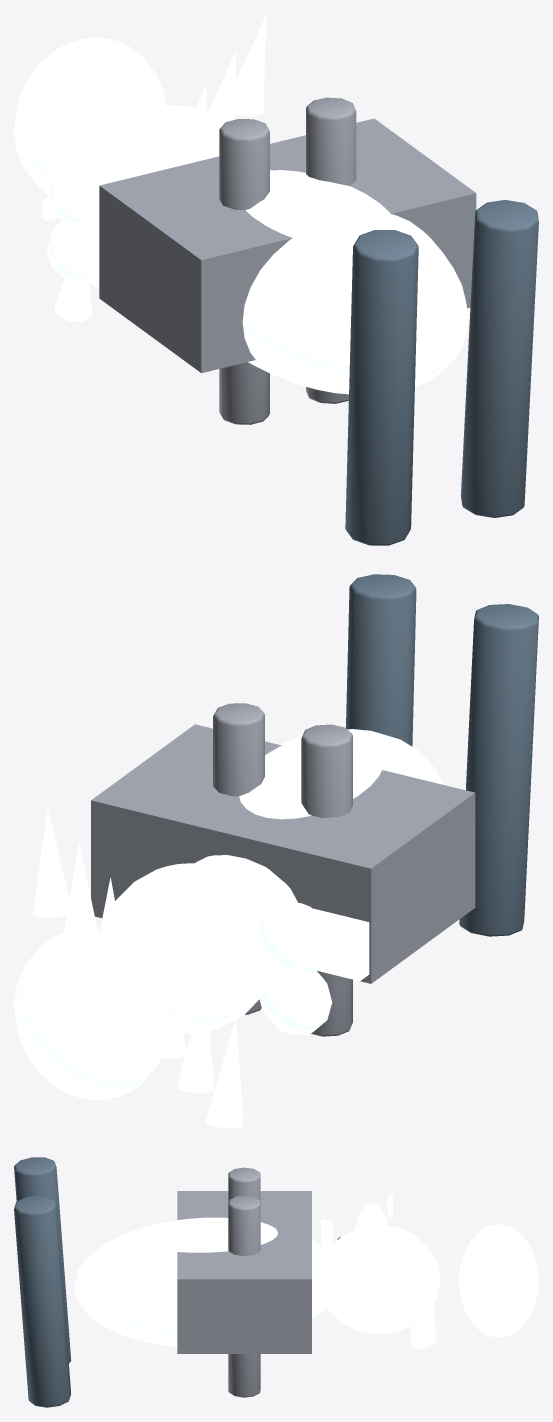
The model's file is frostbite.glb.
The picture shows the model from 3 angles, top to bottom: view 1: azimuth 30°, elevation 25°; view 2: azimuth 150°, elevation 25°; view 3: azimuth 270°, elevation 25°; orthographic projection. The views are drawn at different scales.
Visible parts, largest first — view 1: chest, torso, leg, leg.001, ice_cap, arm, head, arm.001, eye.001, ice_spike_6, eye, ice_spike_0 (+3 smaller); view 2: chest, ice_cap, leg, head, leg.001, torso, arm, arm.001, eye.001, eye, mouth_band, ice_spike_6 (+5 smaller); view 3: chest, torso, leg.001, head, ice_cap, arm.001, leg, ice_spike_6, arm, eye.001, mouth_band.
Part boxes in pixels (box(x1,y1,x2,y2)): chest: box(99, 118, 476, 373); torso: box(242, 170, 468, 394); leg: box(345, 230, 418, 545); leg.001: box(461, 200, 538, 517); ice_cap: box(14, 37, 165, 193); arm: box(219, 119, 269, 424); head: box(96, 105, 226, 180); arm.001: box(306, 97, 356, 403); eye.001: box(47, 151, 118, 224); ice_spike_6: box(235, 15, 266, 116); eye: box(47, 220, 98, 282); ice_spike_0: box(54, 278, 92, 321); chest: box(91, 724, 475, 983); ice_cap: box(14, 929, 169, 1099); leg: box(459, 604, 538, 936); head: box(110, 863, 272, 1033); leg.001: box(346, 574, 416, 746); torso: box(195, 729, 443, 909); arm: box(301, 724, 352, 1036); arm.001: box(213, 703, 264, 1014); eye.001: box(259, 901, 332, 975); eye: box(259, 966, 332, 1035); mouth_band: box(312, 908, 369, 981); ice_spike_6: box(33, 807, 69, 917); chest: box(177, 1191, 311, 1353); torso: box(74, 1217, 327, 1346); leg.001: box(14, 1195, 70, 1407); head: box(326, 1225, 440, 1333); ice_cap: box(458, 1224, 538, 1337); arm.001: box(228, 1195, 260, 1397); leg: box(14, 1157, 71, 1362); ice_spike_6: box(409, 1231, 434, 1297); arm: box(228, 1167, 260, 1203); eye.001: box(355, 1203, 387, 1228); mouth_band: box(321, 1220, 332, 1250).
Size of the model in its own units: 0.57 by 0.5858 by 1.4.
